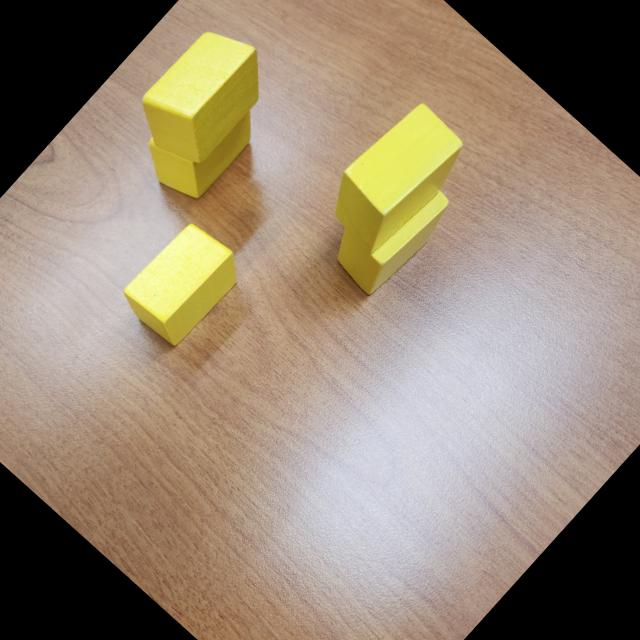yellow: (122, 12, 284, 178), (313, 94, 473, 260), (113, 214, 251, 354), (130, 72, 266, 212), (322, 161, 456, 300)
